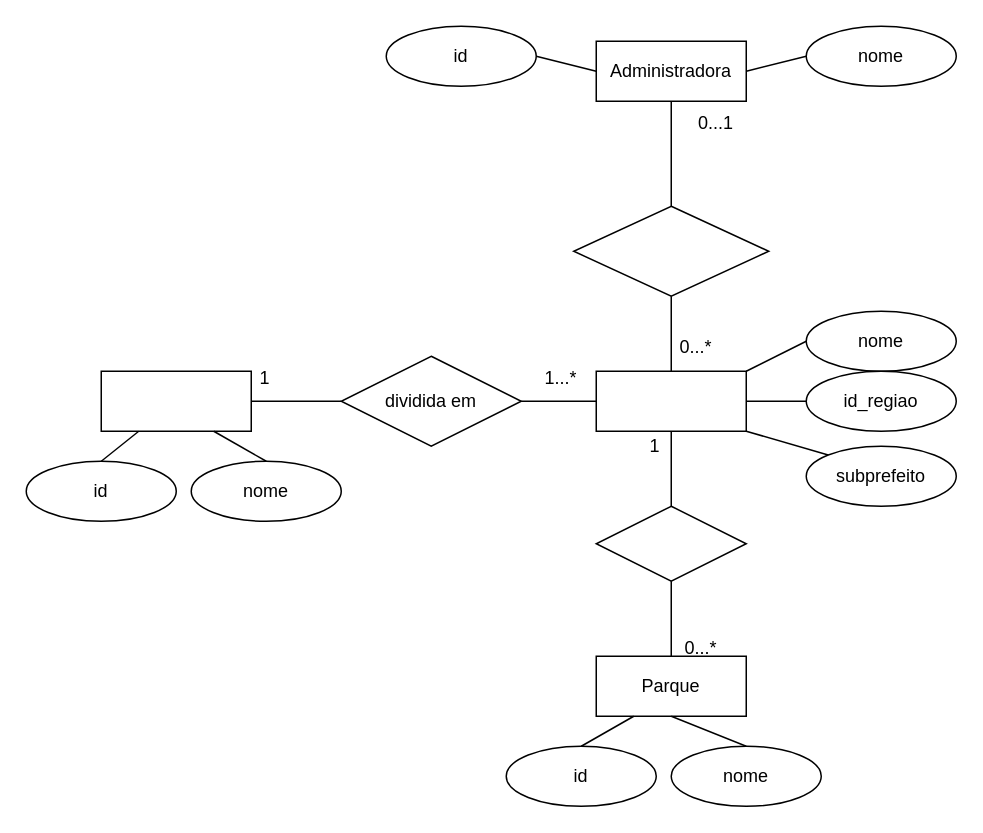
The diagram is 983 pixels wide and 833 high, and some of its shapes have lost their labels. The shapes that lost their labels are listed below. From the top down, each one's box as (x1, y1, x2, y2) in pixels, then its label:
(572, 205, 769, 296): administra parques da
(100, 370, 251, 431): Cidade
(595, 370, 746, 431): Regiões
(595, 505, 746, 581): Tem
